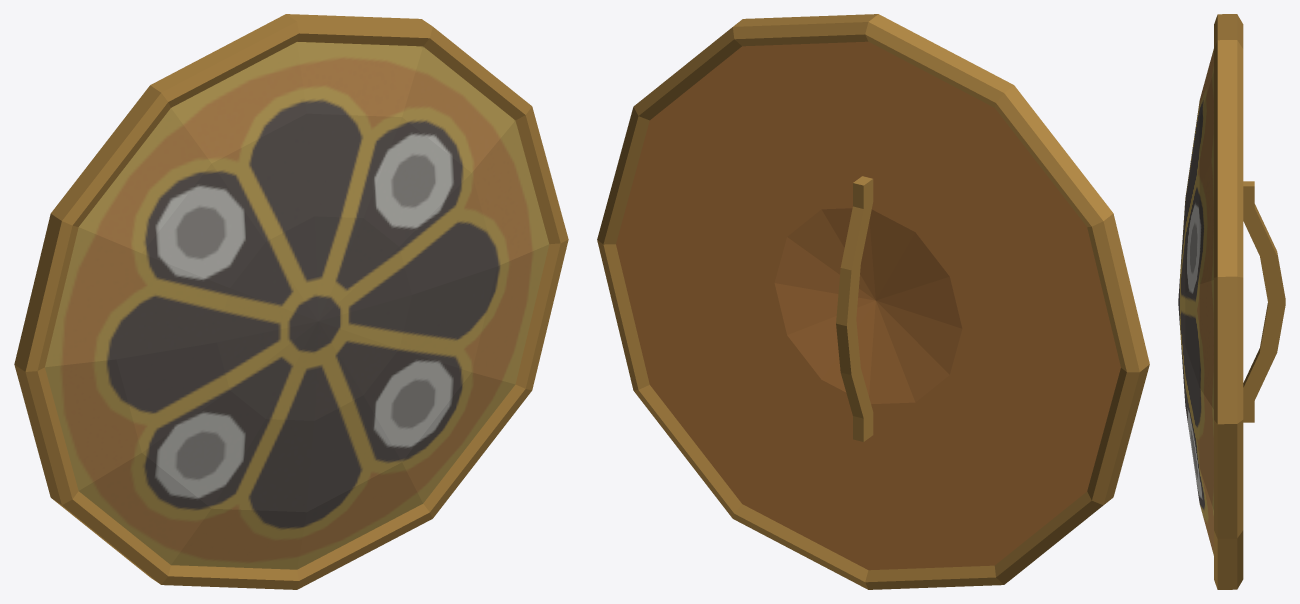
Rendered from SM_pwe_persia_shield_06.fbx.
3 views of the same model, side by side, from view 1: azimuth 30°, elevation 25°; view 2: azimuth 150°, elevation 25°; view 3: azimuth 270°, elevation 25° (orthographic). The views are drawn at different scales.
Parts seen in each view (by area): view 1: SM_pwe_persia_shield_06; view 2: SM_pwe_persia_shield_06; view 3: SM_pwe_persia_shield_06.
Boxes of the visible parts, x1,y1,x2,y2 form: SM_pwe_persia_shield_06: [14, 14, 568, 589]; SM_pwe_persia_shield_06: [597, 14, 1149, 589]; SM_pwe_persia_shield_06: [1178, 14, 1285, 589].
Bounding box in the file's own units: 70.51 × 70.44 × 13.1.
